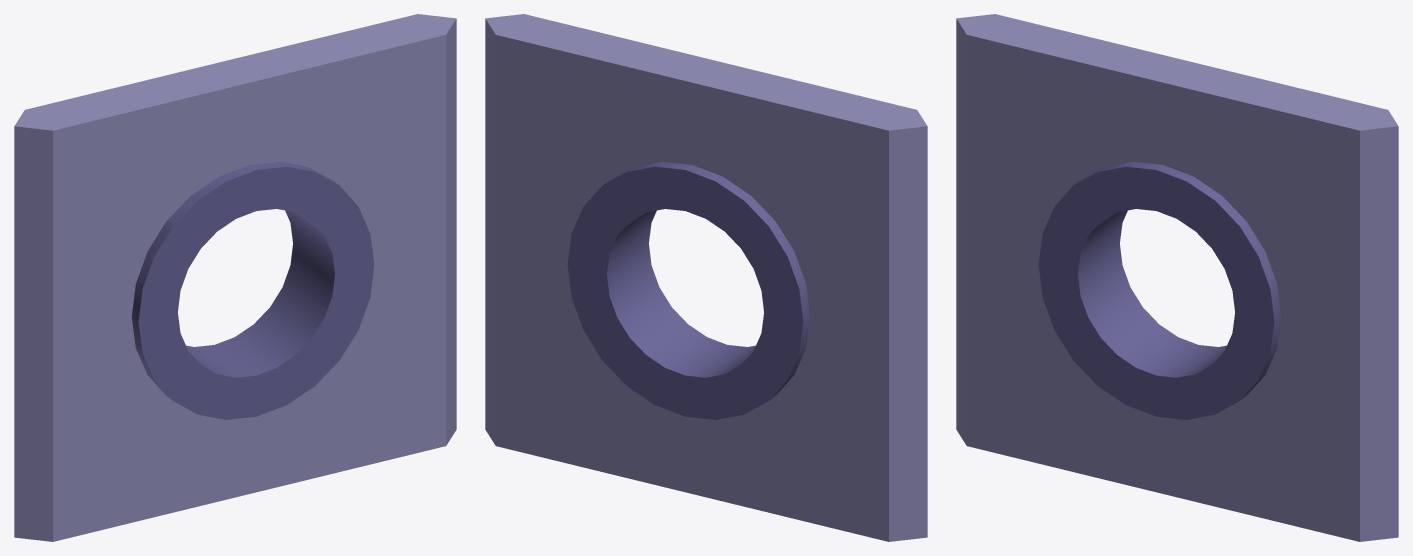
File: Wall_CircleWindow.fbx
The picture shows the model from 3 angles, left to right: view 1: azimuth 30°, elevation 25°; view 2: azimuth 150°, elevation 25°; view 3: azimuth 330°, elevation 25°; orthographic projection.
Visible parts, largest first — view 1: window_roundSmall; view 2: window_roundSmall; view 3: window_roundSmall.
Boxes of the visible parts, bbox=[...] form: window_roundSmall: bbox=[14, 14, 456, 541]; window_roundSmall: bbox=[485, 14, 927, 541]; window_roundSmall: bbox=[956, 14, 1398, 541].
Bounding box in the file's own units: 11.25 × 10 × 1.85.
